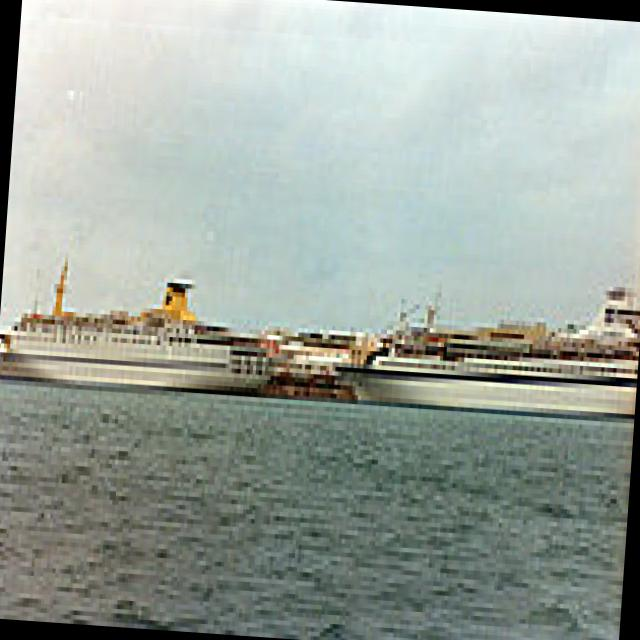boat: (359, 305, 640, 434), (15, 282, 287, 398)
